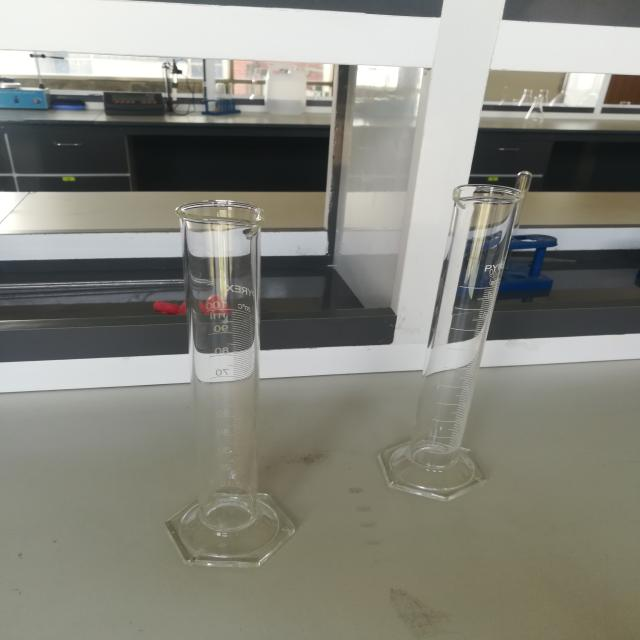Measuring_Cylinder: (127, 162, 325, 598), (358, 165, 544, 516)
